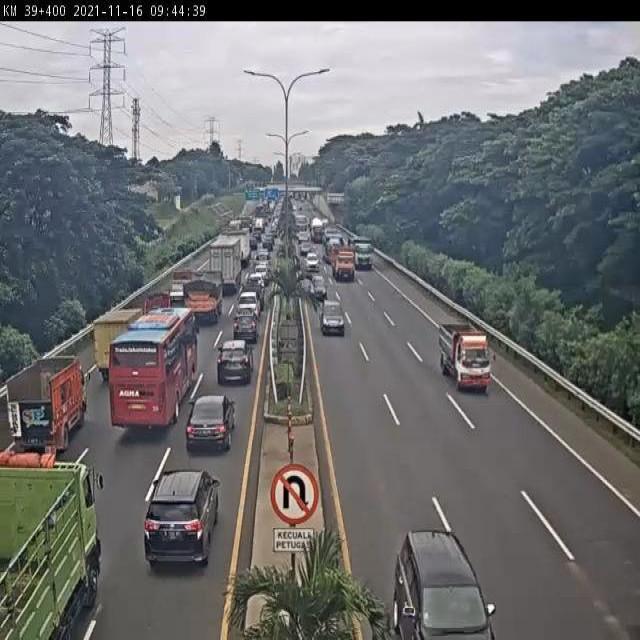big bus: (108, 308, 197, 431)
car: (392, 532, 495, 640), (143, 472, 220, 563), (187, 395, 236, 448), (217, 341, 253, 388), (320, 298, 346, 334), (232, 316, 255, 347), (236, 287, 258, 317), (244, 270, 263, 290)
small truck: (437, 321, 492, 392), (85, 315, 137, 384), (166, 265, 196, 304), (142, 288, 172, 325)
truck-l-: (0, 444, 105, 640), (206, 241, 241, 296)
truck-m-: (7, 356, 86, 445), (180, 275, 221, 328)
